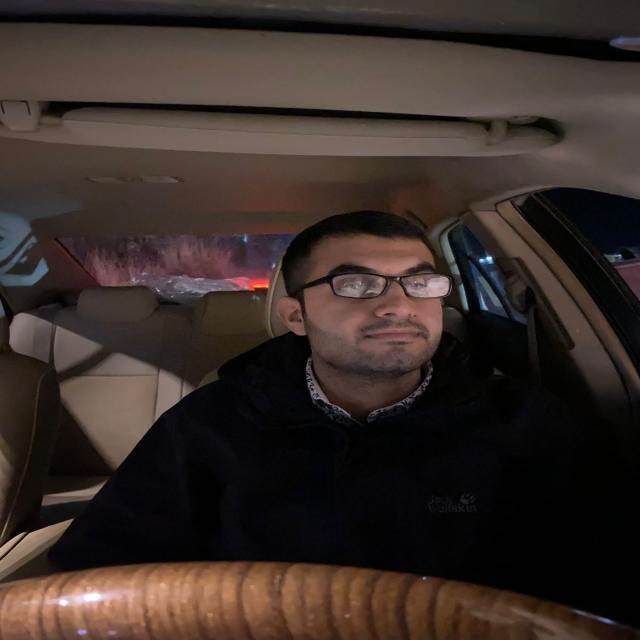person: (277, 203, 473, 397)
